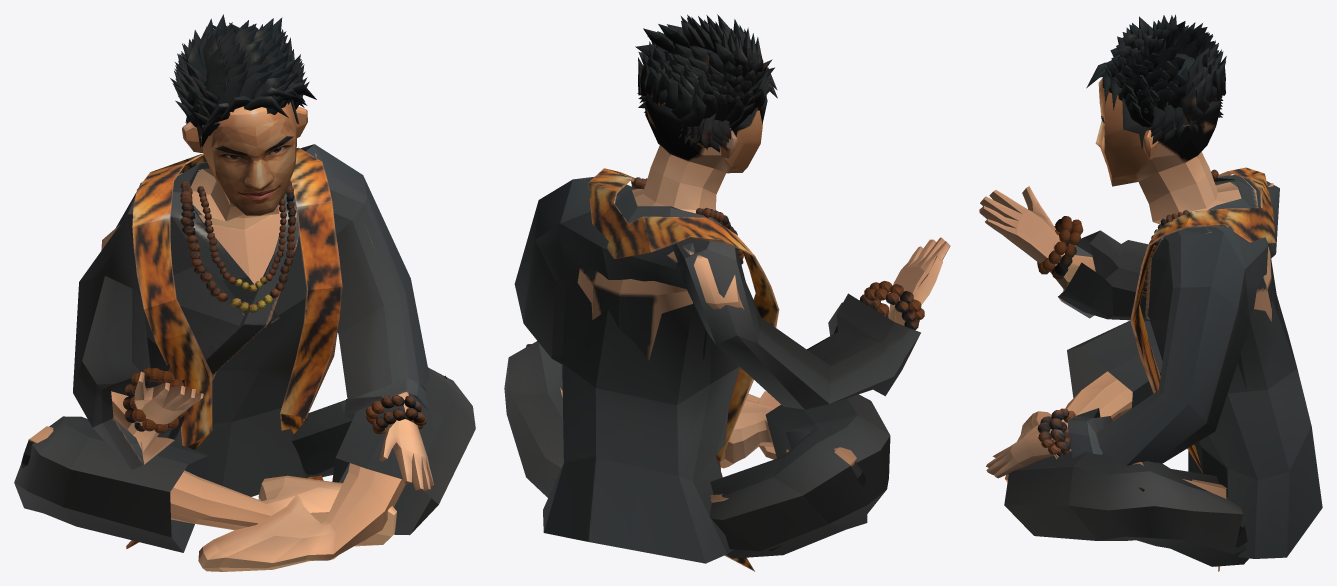
The model's file is Zone_pose.fbx.
3 renders of one model, left to right at view 1: azimuth 30°, elevation 25°; view 2: azimuth 150°, elevation 25°; view 3: azimuth 270°, elevation 25°, orthographic. The views are drawn at different scales.
Parts seen in each view (by area): view 1: pPlane7; view 2: pPlane7; view 3: pPlane7.
Boxes of the visible parts, x1,y1,x2,y2 form: pPlane7: (14,14,475,571); pPlane7: (504,14,950,571); pPlane7: (979,14,1322,571).
Bounding box in the file's own units: 2.18 × 2.66 × 1.64.
